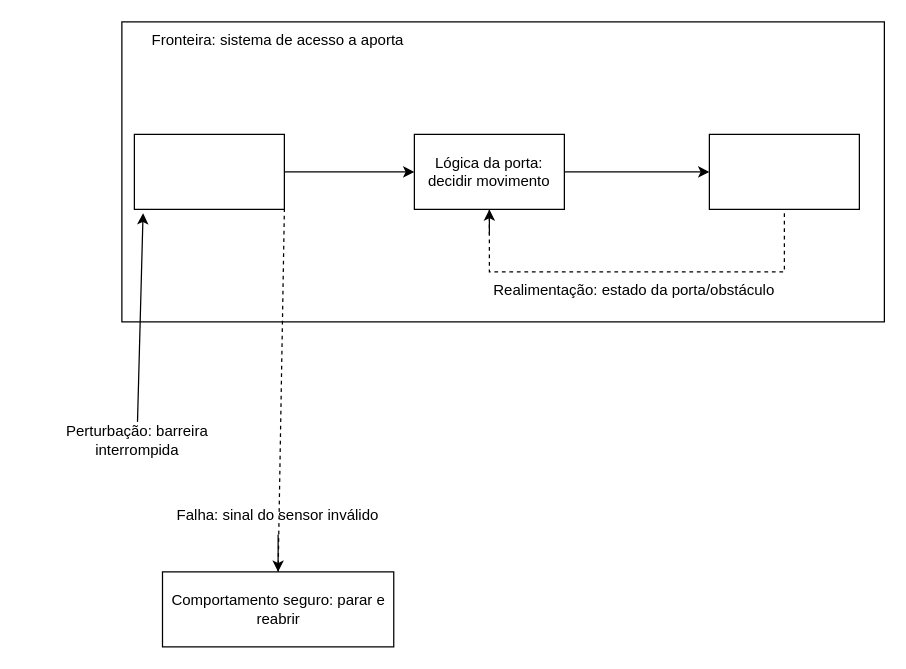
Image size: 906x669. Some labels were removed from this diagram. The shapes that lost their labels are listed below. From the top down, each one's box as (x1, y1, x2, y2) in pixels, then its label:
(133, 133, 284, 209): Sensores: presença/obstáculo
(708, 133, 859, 209): Motor: abrir/fechar/parar
